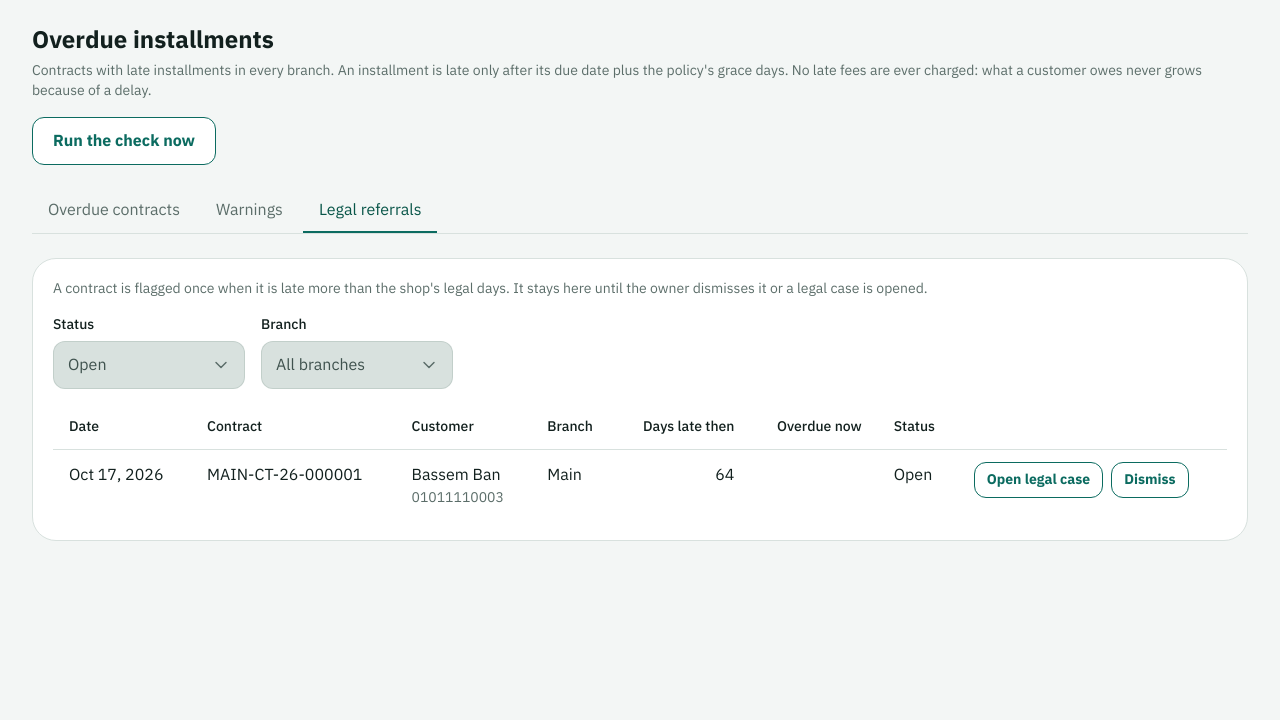
Test: L01 + N09 on the overdue page › an open legal referral can become a case or be dismissed
This screenshot has width=1280, height=720.
Expected: the button "Dismiss" is shown, x1=1111 y1=462 x2=1188 y2=498
Step 1. Click the button "Open legal case" → [1038, 480], box x1=974 y1=462 x2=1103 y2=498
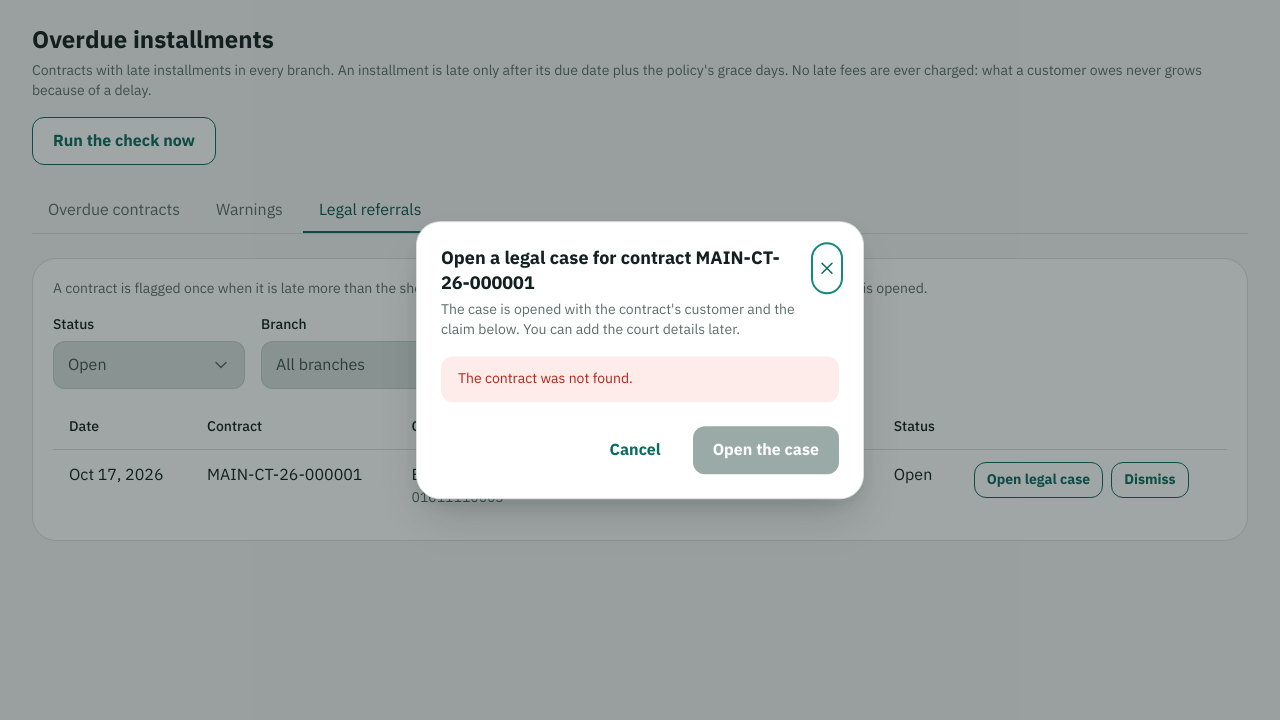
Expected: the dialog is shown, x1=416 y1=221 x2=864 y2=499
